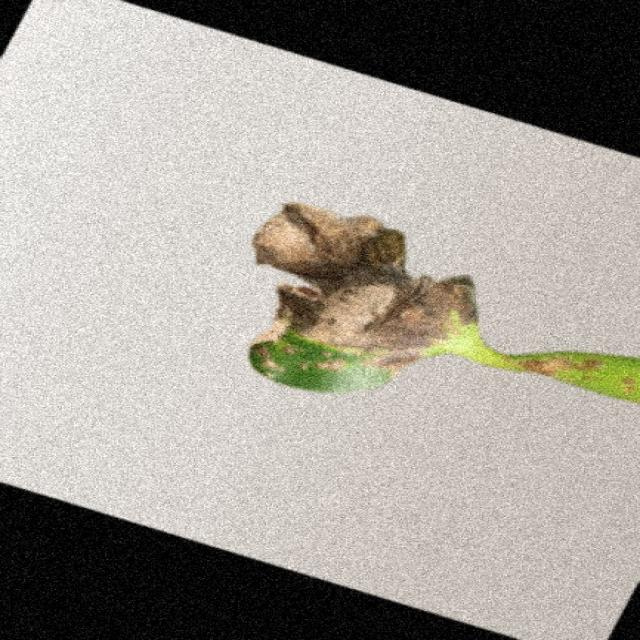daun berpenyakit karat: (252, 203, 638, 402)
